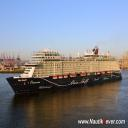cruises: (7, 45, 125, 96)
